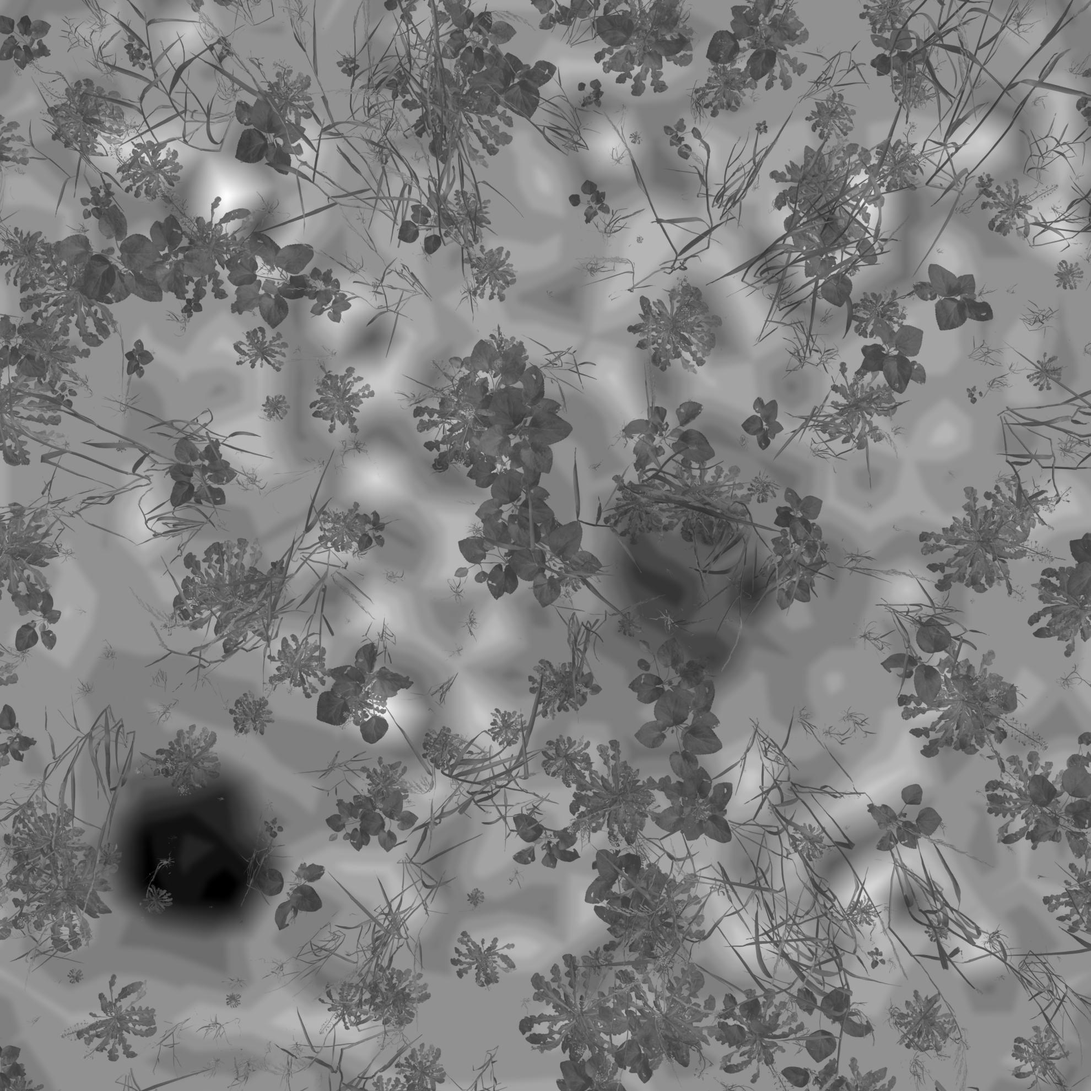landmine: (600, 509, 777, 694), (120, 791, 260, 931)
